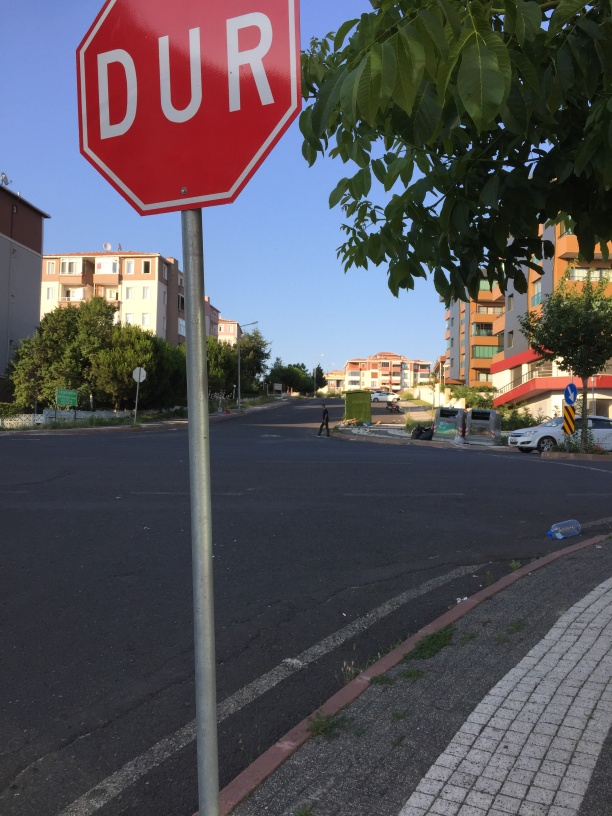arac_dur_isareti: (66, 5, 306, 411)
